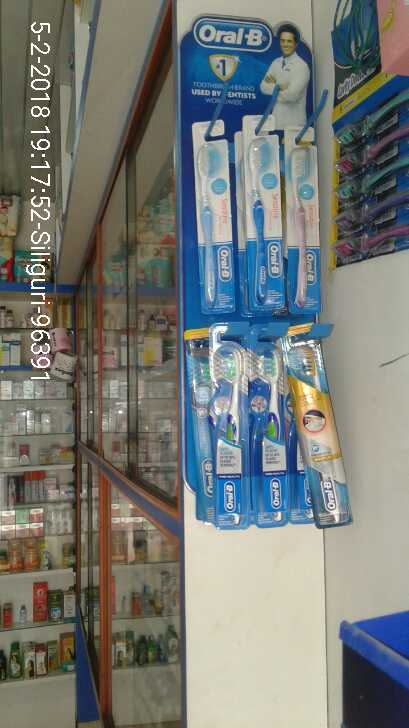oralb: (291, 336, 351, 530), (185, 143, 243, 308), (236, 126, 280, 305), (279, 134, 321, 306), (208, 340, 247, 521), (250, 340, 284, 520)
